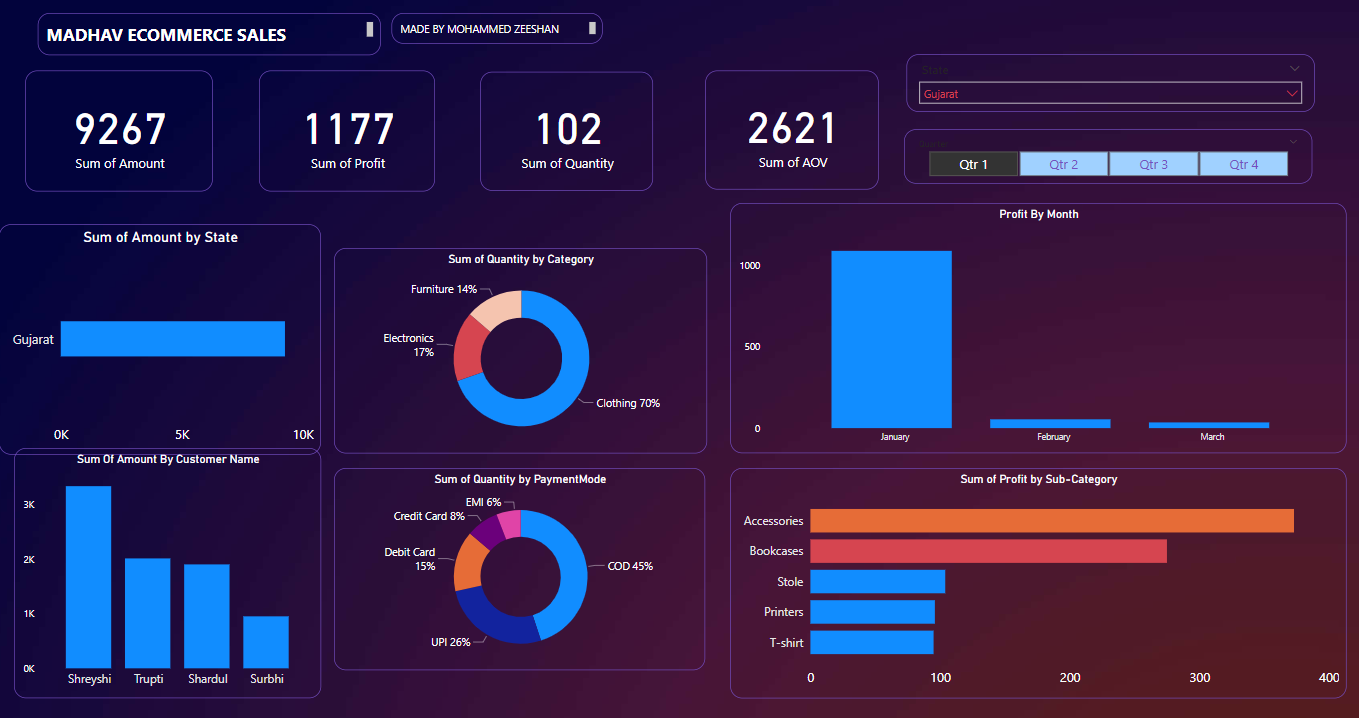

The page's visual inventory and layout, read from the dashboard file:
{"tool":"powerbi","page":{"name":"Page 1","canvas":[1700,900],"ordinal":0},"visuals":[{"type":"textbox","box":[48.6,18.6,428.6,52.9],"z":0},{"type":"columnChart","title":"Profit By Month","fields":{"Category":["Orders.Order Date.Variation.Date Hierarchy.Month"],"Y":["Details.Profit"]},"box":[914.1,256.7,770.2,313.2],"z":1000},{"type":"barChart","fields":{"Category":["Details.Sub-Category"],"Y":["Details.Profit"]},"box":[914.1,588.2,770.2,287.7],"z":2000},{"type":"donutChart","fields":{"Category":["Details.Category"],"Y":["Details.Quantity"]},"box":[418.8,313.2,466.2,256.7],"z":3000},{"type":"donutChart","fields":{"Y":["Details.Quantity"],"Category":["Details.PaymentMode"]},"box":[418.8,588.2,464.3,253.1],"z":3001},{"type":"card","fields":{"Values":["Details.Amount"]},"box":[32.9,90,234.3,151.4],"z":3002},{"type":"card","fields":{"Values":["Details.Profit"]},"box":[325.7,90,220,151.4],"z":3003},{"type":"card","fields":{"Values":["Details.Quantity"]},"box":[601.4,92.9,215.7,148.6],"z":3004},{"type":"card","fields":{"Values":["Details.AOV"]},"box":[882.9,90,217.1,148.6],"z":3005},{"type":"barChart","fields":{"Y":["Details.Amount"],"Category":["Orders.State"]},"box":[0,282.2,402.4,287.7],"z":3006},{"type":"columnChart","title":"Sum Of Amount By Customer Name ","fields":{"Category":["Orders.CustomerName"],"Y":["Details.Amount"]},"box":[18.2,562.7,384.2,313.2],"z":3007},{"type":"slicer","fields":{"Values":["Orders.Order Date.Variation.Date Hierarchy.Quarter"]},"box":[1132,164,510,68],"z":3009},{"type":"slicer","fields":{"Values":["Orders.State"]},"box":[1134,70,510,72],"z":3010},{"type":"textbox","box":[490,18.6,264.3,38.6],"z":3011}]}

Visuals, with their boxes in screenshot pixels (x1, y1, x2, y2), scaled from the page's 1700x900 canvas onto the 1359x718 screenshot:
textbox: BBox(39, 15, 381, 57)
"Profit By Month" columnChart: BBox(731, 205, 1346, 455)
barChart - Details.Sub-Category x Details.Profit: BBox(731, 469, 1346, 699)
donutChart - Details.Category x Details.Quantity: BBox(335, 250, 707, 455)
donutChart - Details.Quantity x Details.PaymentMode: BBox(335, 469, 706, 671)
card - Details.Amount: BBox(26, 72, 214, 193)
card - Details.Profit: BBox(260, 72, 436, 193)
card - Details.Quantity: BBox(481, 74, 653, 193)
card - Details.AOV: BBox(706, 72, 879, 190)
barChart - Details.Amount x Orders.State: BBox(0, 225, 322, 455)
"Sum Of Amount By Customer Name " columnChart: BBox(15, 449, 322, 699)
slicer - Orders.Order Date.Variation.Date Hierarchy.Quarter: BBox(905, 131, 1313, 185)
slicer - Orders.State: BBox(907, 56, 1314, 113)
textbox: BBox(392, 15, 603, 46)
